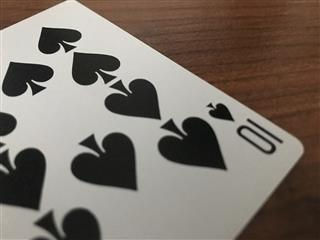TenOfSpades: (1, 1, 304, 240)
